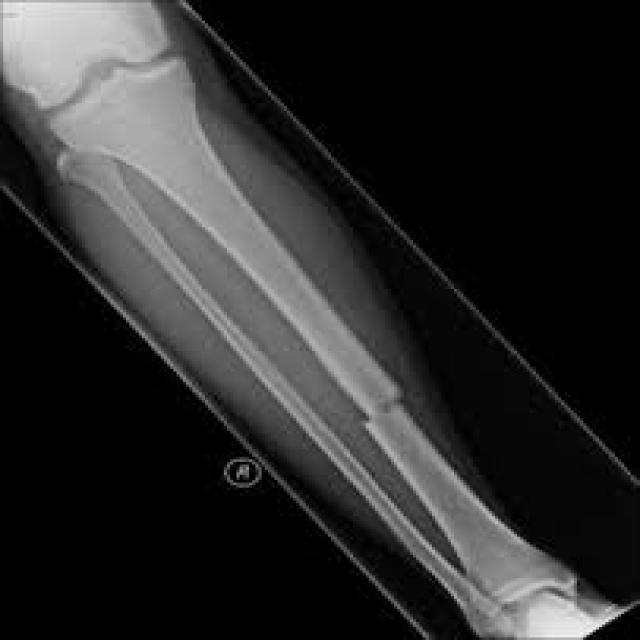Impacted: (349, 340, 426, 451)
